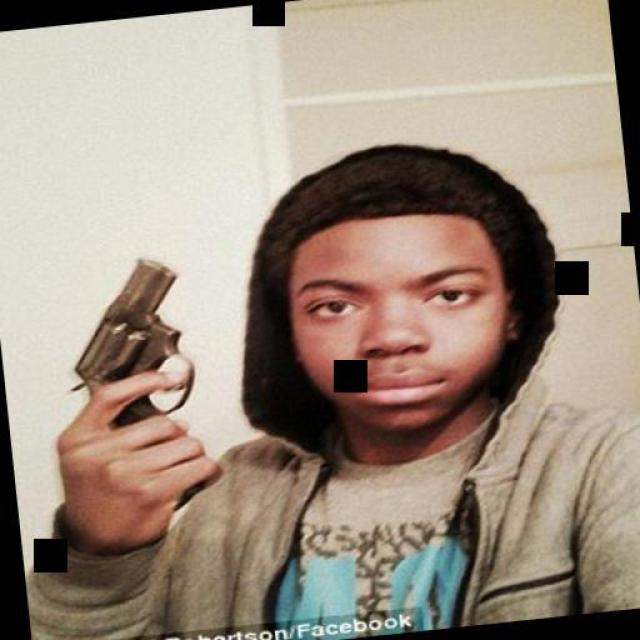gun: (61, 252, 215, 518)
